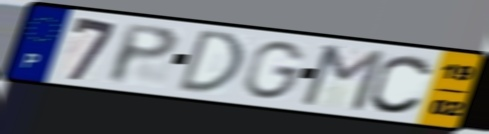7: (66, 14, 118, 83)
C: (367, 52, 437, 116)
D: (173, 27, 246, 95)
G: (241, 39, 310, 102)
M: (296, 43, 389, 114)
P: (105, 22, 182, 87)
